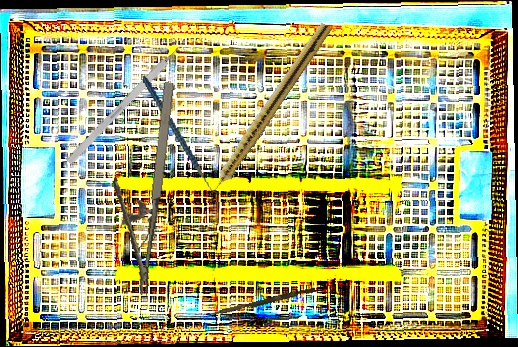Chopper: (142, 65, 224, 208)
Handpiece: (201, 19, 333, 203)
Hook Surgical: (65, 34, 192, 166)
Needle Holder: (96, 76, 181, 296)
Pusher: (207, 284, 317, 321)
